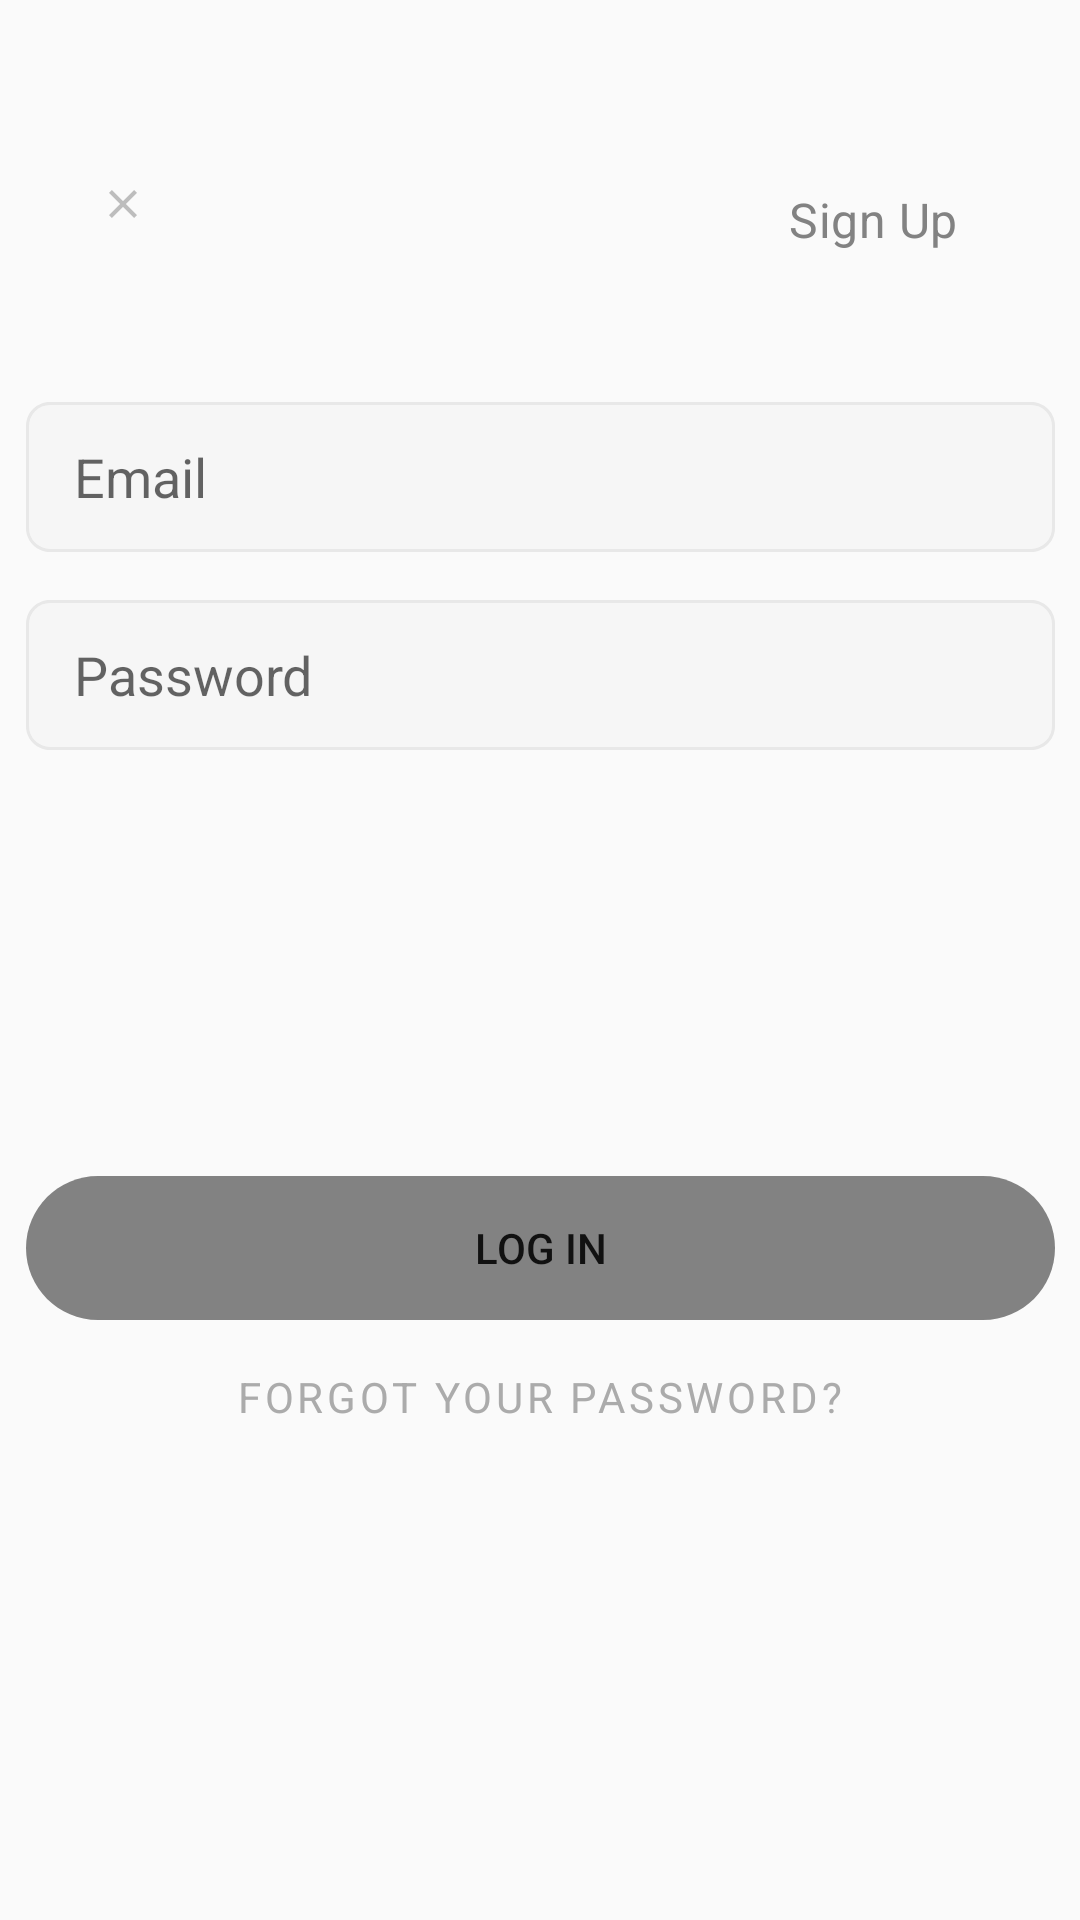

Icons on this 1080px×1920px Android screen, each with the point to tap as [x,y]:
close: [123,204]
